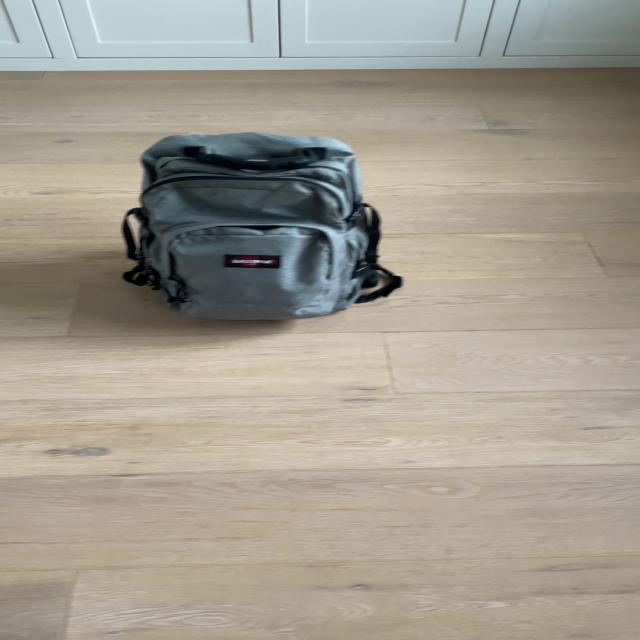backpack: (111, 123, 405, 324)
